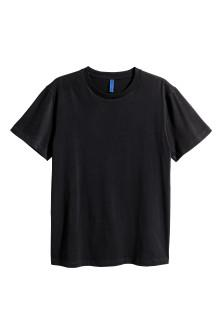teeshirt: (1, 63, 203, 285)
